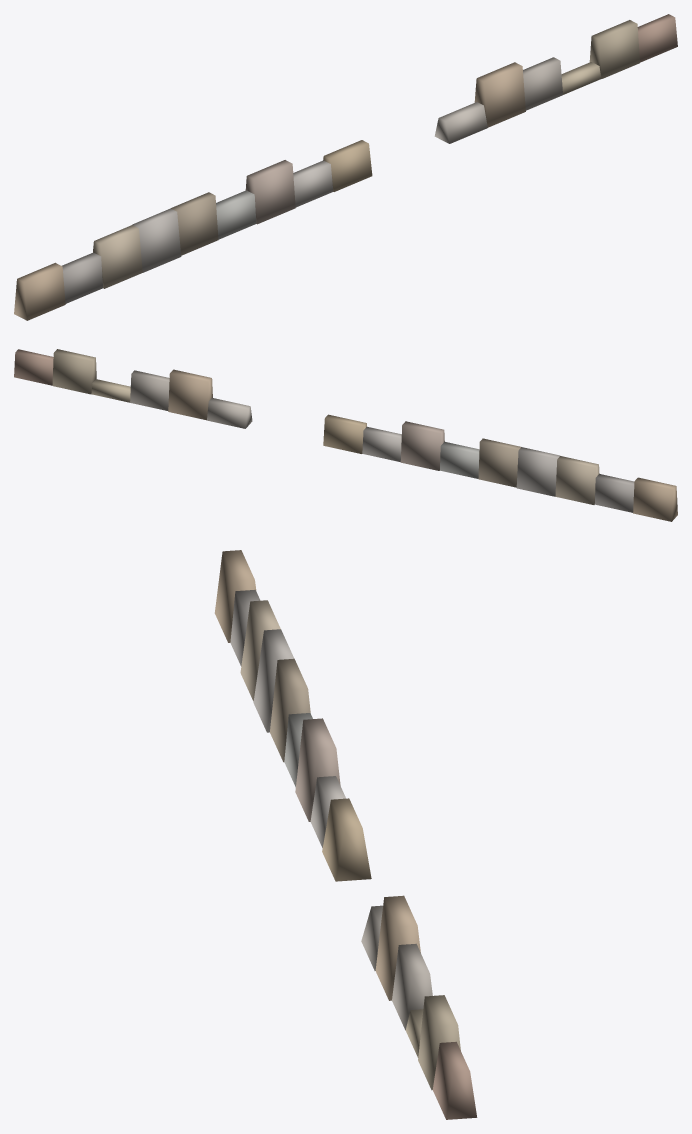
File: farm_-25_-22_collision.glb
The picture shows the model from 3 angles, top to bottom: view 1: azimuth 30°, elevation 25°; view 2: azimuth 150°, elevation 25°; view 3: azimuth 270°, elevation 25°; orthographic projection. The views are drawn at different scales.
Visible parts, largest first — view 1: geometry_0; view 2: geometry_0; view 3: geometry_0.
Boxes of the visible parts, bbox=[...] form: geometry_0: bbox=[14, 14, 677, 320]; geometry_0: bbox=[14, 349, 677, 521]; geometry_0: bbox=[214, 550, 477, 1119].
Size of the model in its own units: 26.47 by 2.9 by 4.99.
